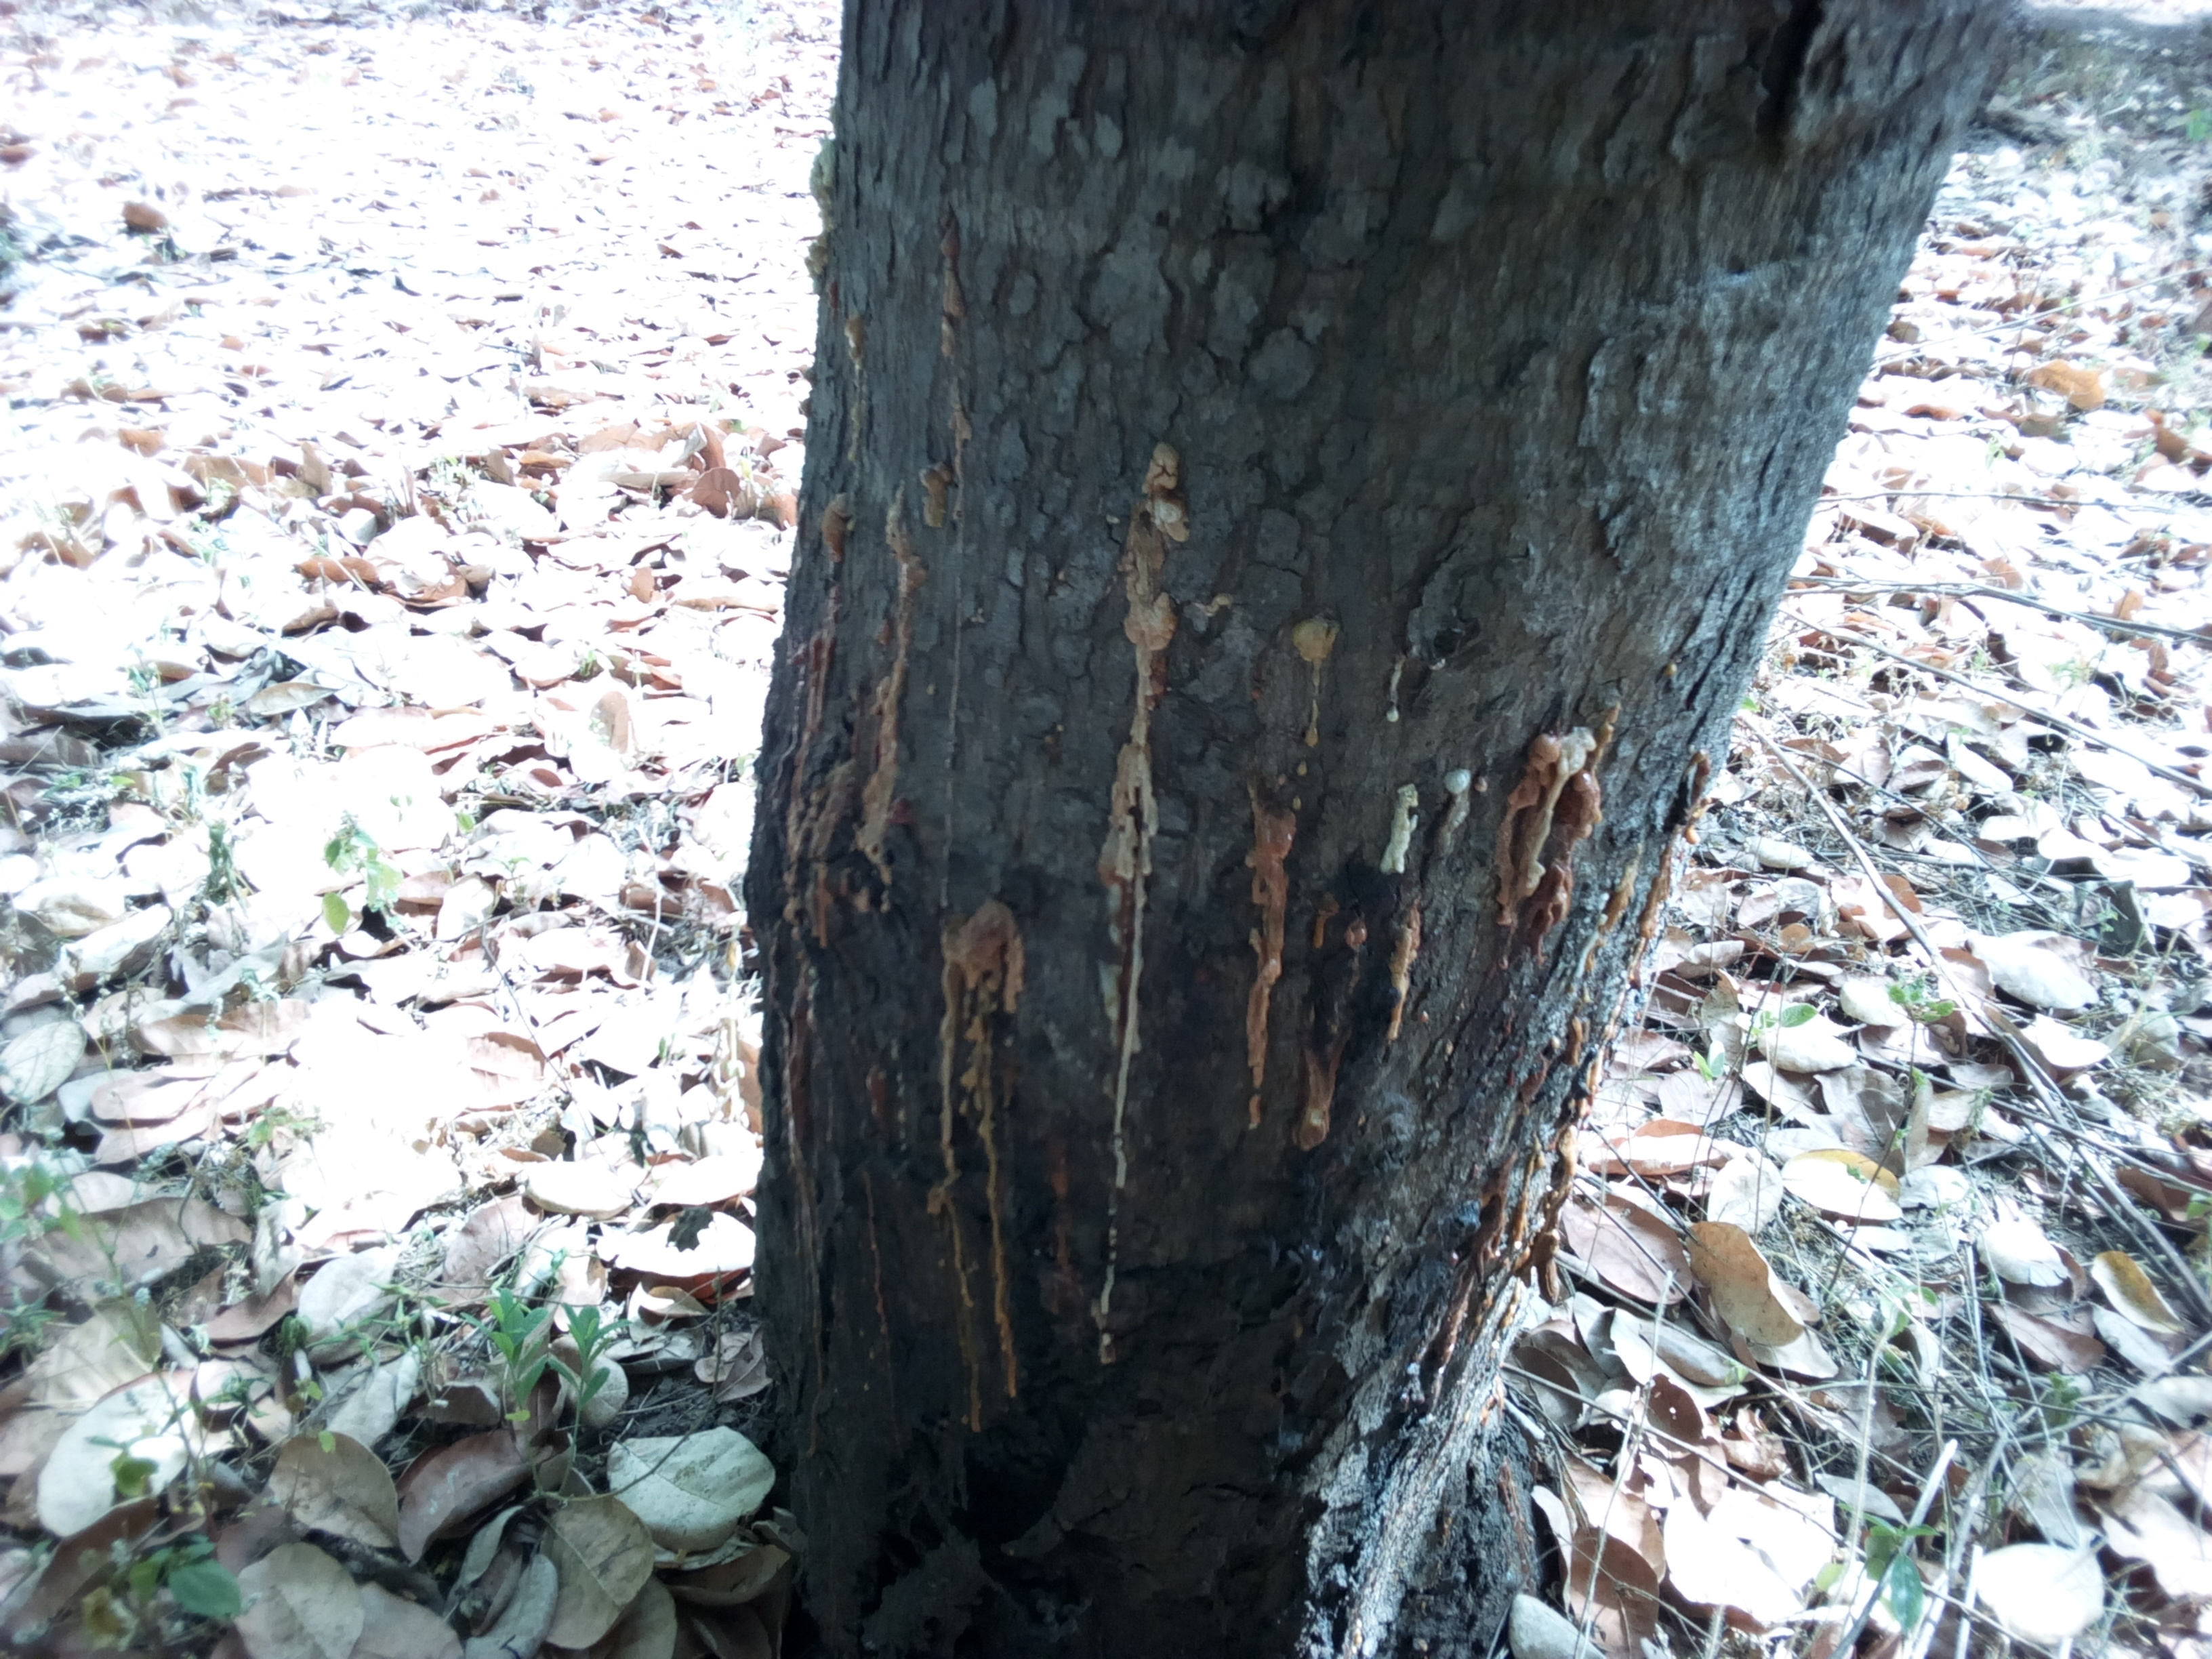Gommose: (758, 265, 1728, 1513)
